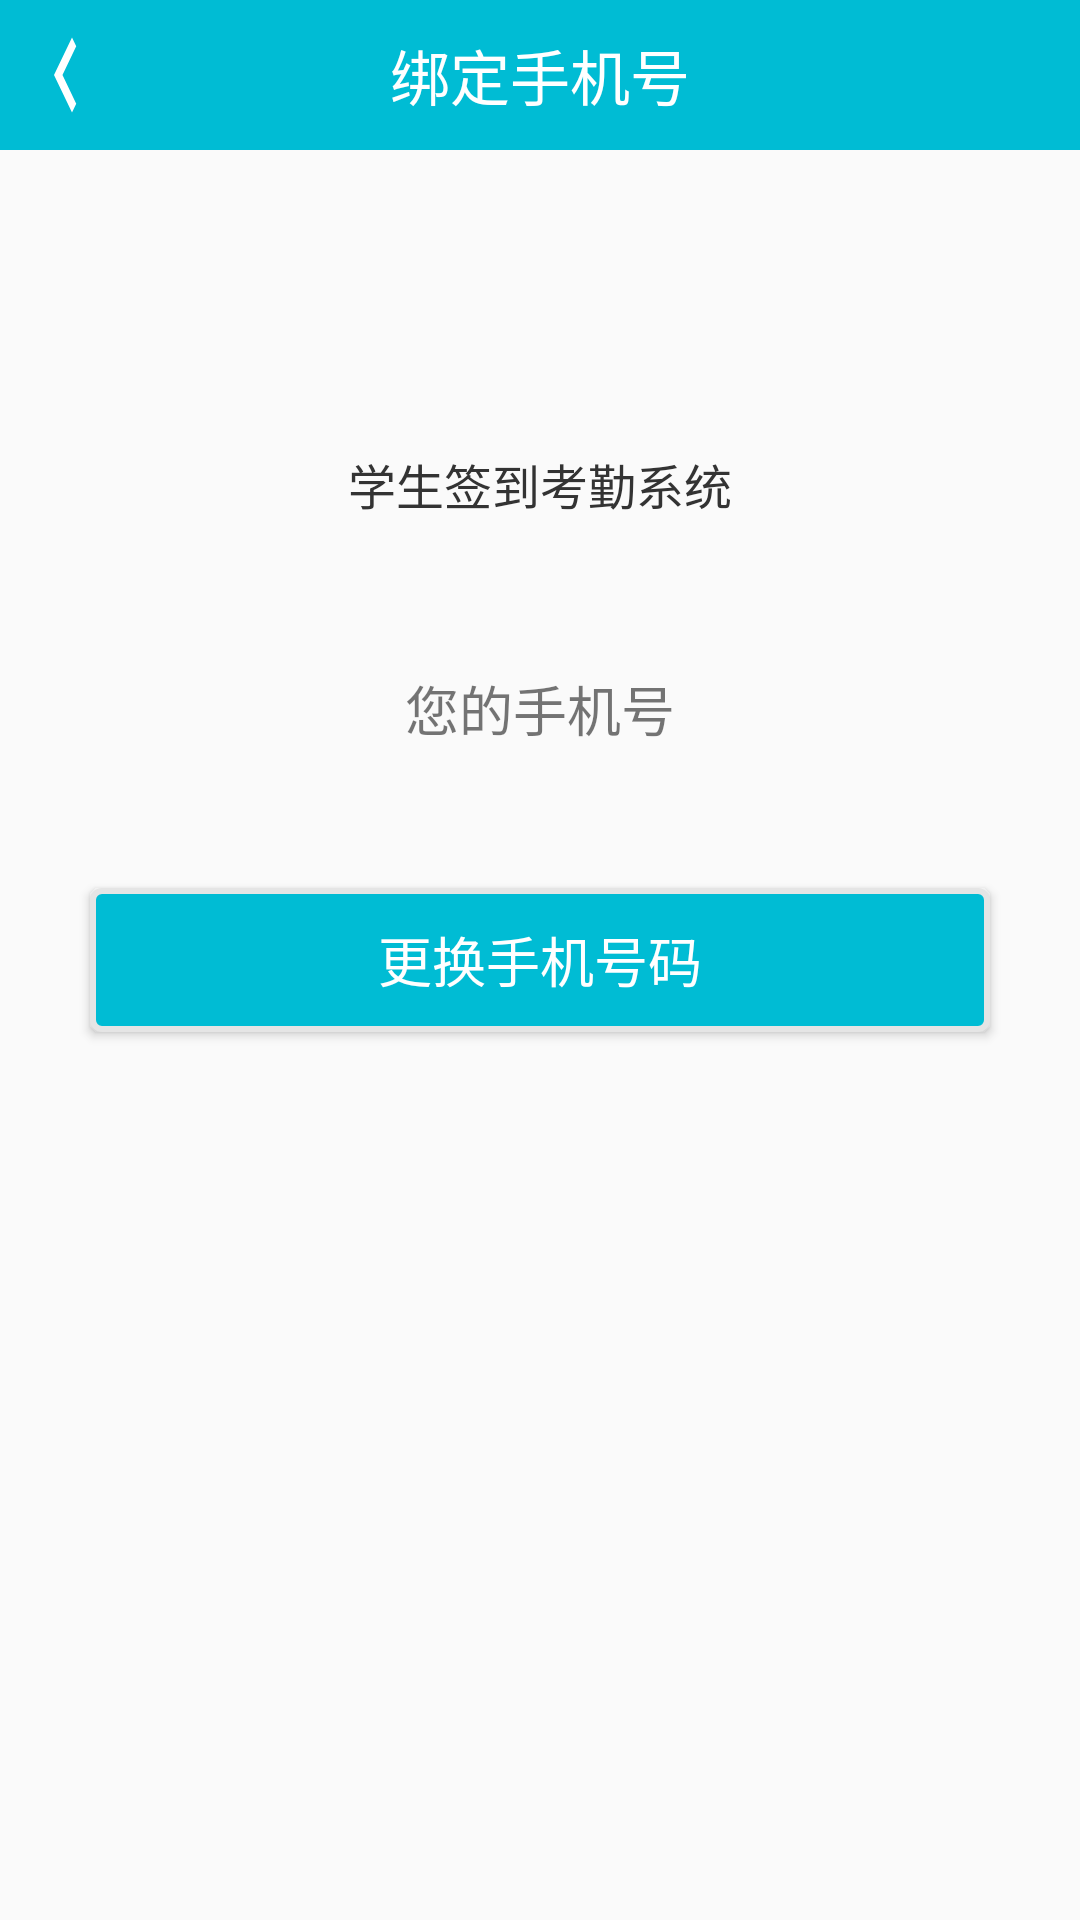

Screen size 1080 × 1920. Icon name, then its box in pixels as [x1, y1, x2, y2]:
keyboard arrow left: [54, 38, 76, 112]
